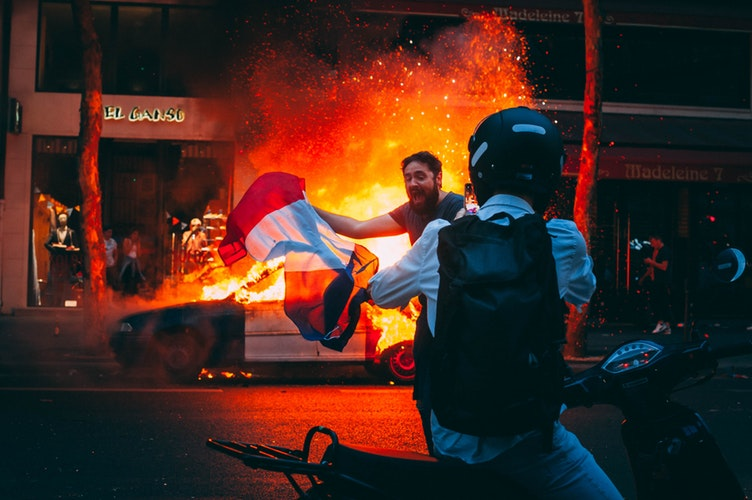helmet: (465, 116, 566, 181)
